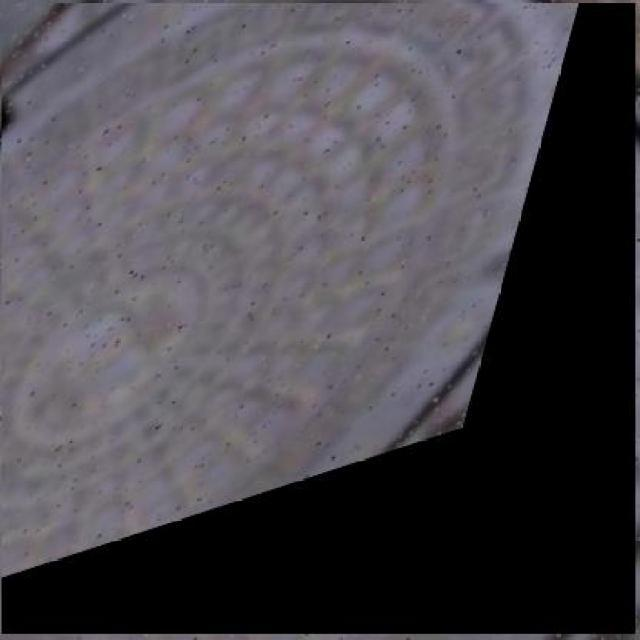Manhole: (2, 3, 636, 634)
